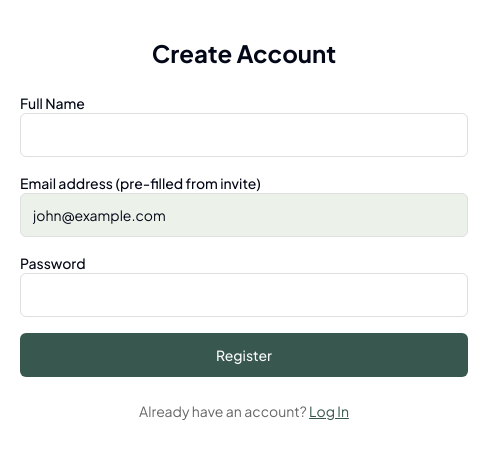
Test case: RegistrationForm › bad cases › shows validation error when name is empty
Step 1. Click the button "Register" → (244, 355), box [20,333,468,377]
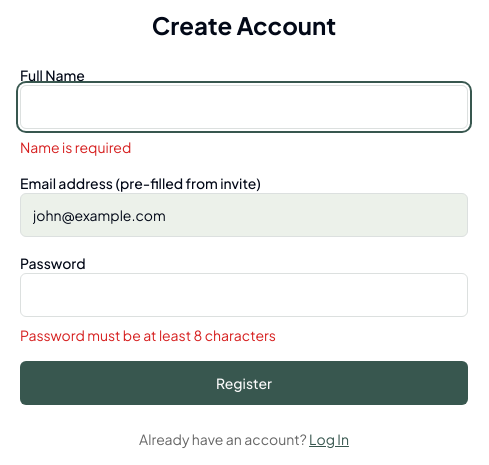
Now the text "Name is required" is shown, box [20,138,131,156]
